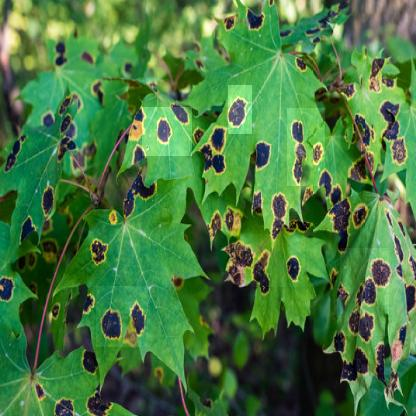black-spot: (340, 248, 389, 336), (96, 286, 148, 347), (287, 108, 325, 186), (252, 234, 306, 287), (142, 107, 192, 156), (228, 85, 252, 134)
